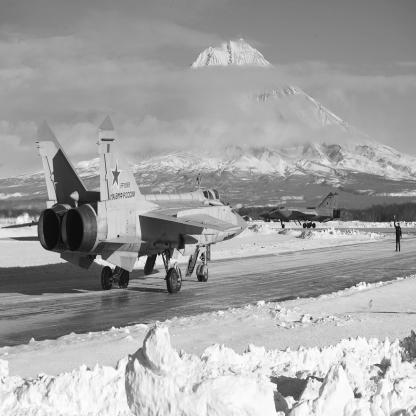Mig31: (2, 115, 253, 296), (257, 193, 345, 229)
